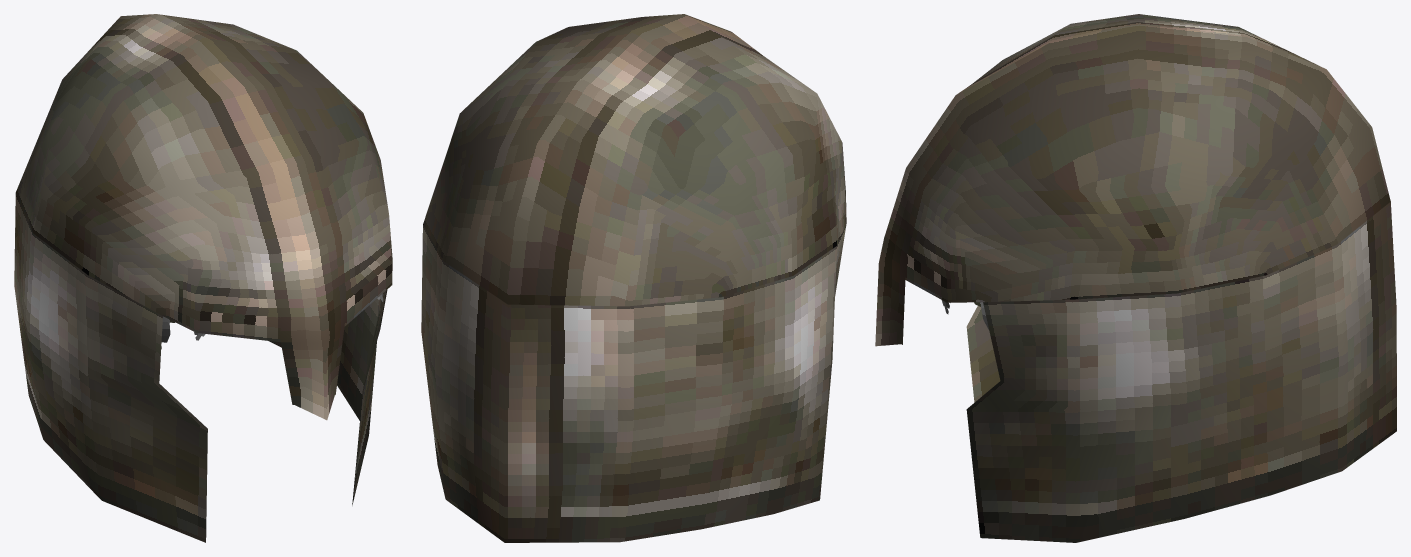
The picture shows the model from 3 angles, left to right: view 1: azimuth 30°, elevation 25°; view 2: azimuth 150°, elevation 25°; view 3: azimuth 270°, elevation 25°; orthographic projection. The views are drawn at different scales.
Visible parts, largest first — view 1: mesh00; view 2: mesh00; view 3: mesh00.
Part boxes in pixels (box(x1,y1,x2,y2)): mesh00: box(14, 14, 392, 542); mesh00: box(421, 14, 846, 542); mesh00: box(875, 14, 1396, 542).
Size of the model in its own units: 18.18 by 23.71 by 23.7.
Materials: 1 (1 with a texture image).
